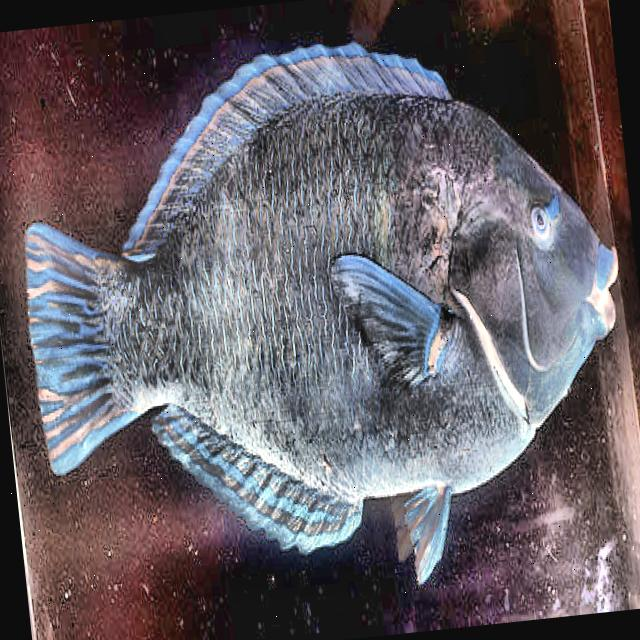fish: (8, 21, 640, 629)
